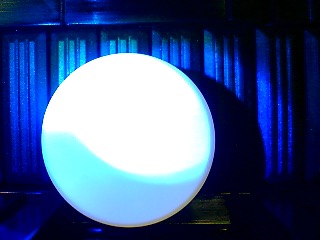BLANK: (40, 53, 215, 228)
